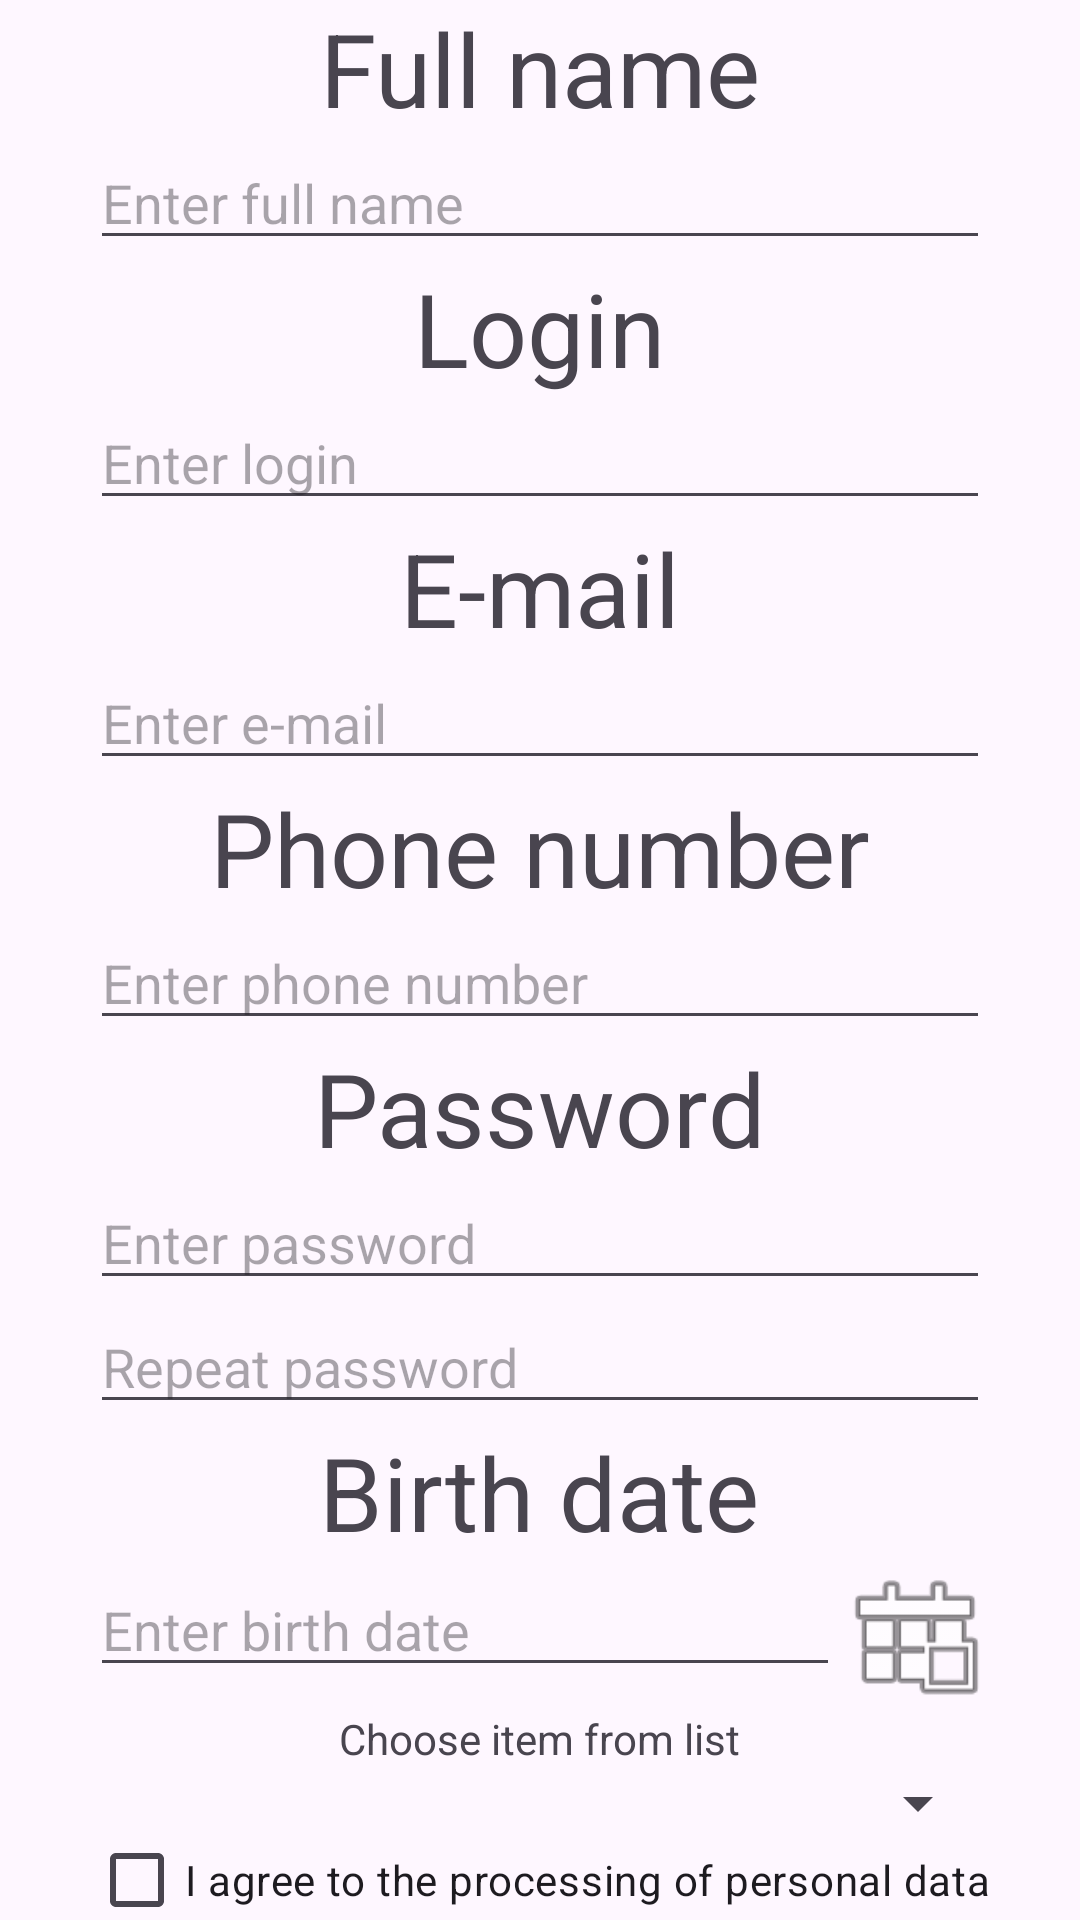

Point at icon controls on the screen. Image size 1080*1920, points as point (x, y).
today: point (916, 1637)
